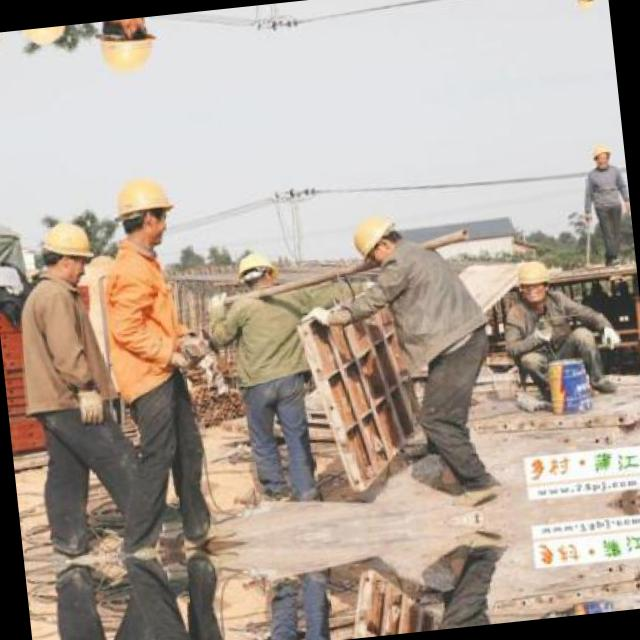helmet: (105, 164, 183, 255), (89, 15, 166, 85), (34, 213, 99, 285), (341, 205, 409, 272), (230, 249, 279, 296), (510, 256, 554, 304), (14, 24, 76, 53), (587, 141, 613, 171), (570, 0, 596, 11)
